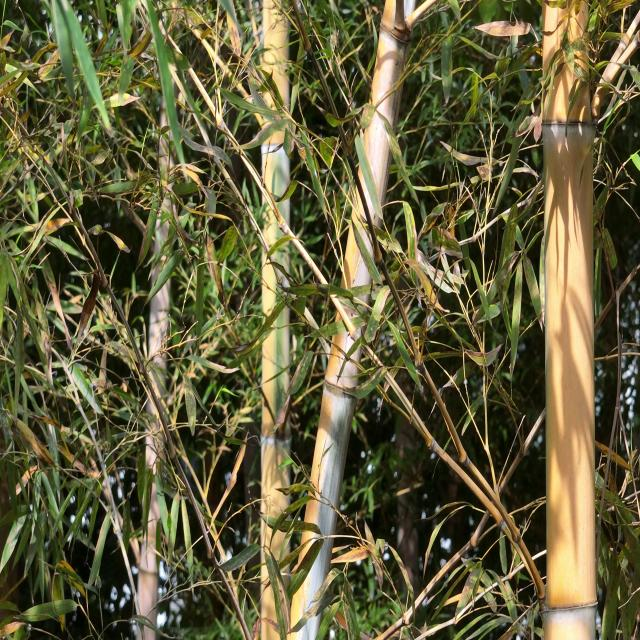Bamboo-shoots: (544, 0, 597, 640)
